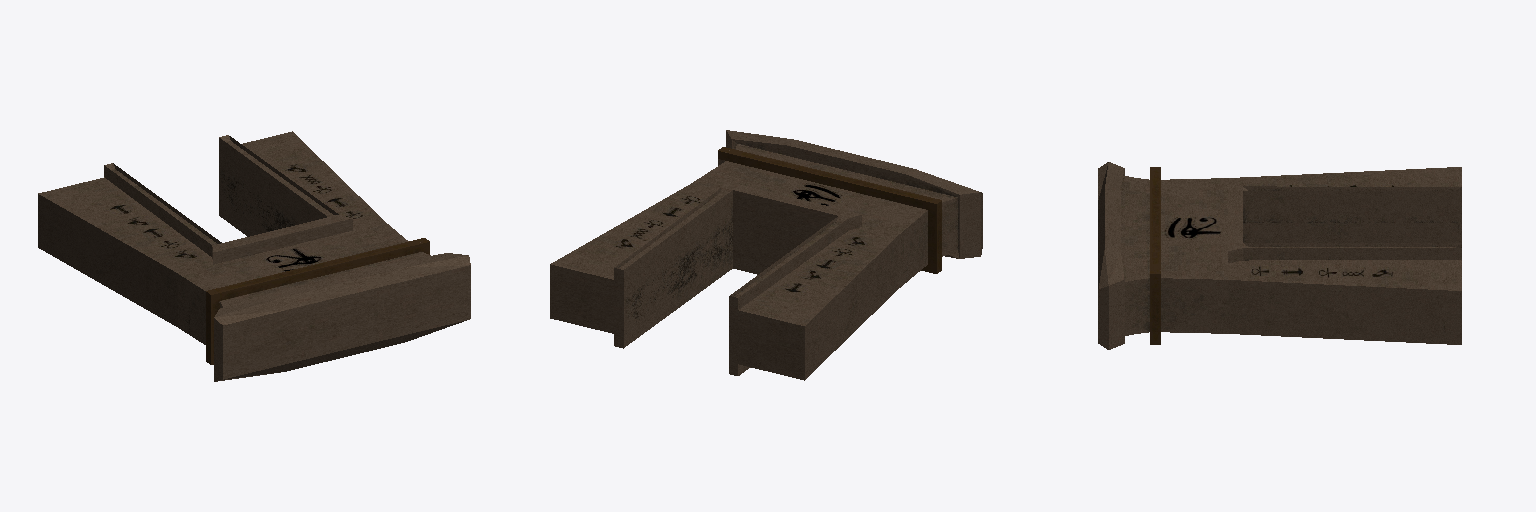
The picture shows the model from 3 angles: view 1: azimuth 30°, elevation 25°; view 2: azimuth 150°, elevation 25°; view 3: azimuth 270°, elevation 25°; orthographic projection.
Parts seen in each view (by area): view 1: main_low; view 2: main_low; view 3: main_low.
Part boxes in pixels (x1,y1,x2,y2): main_low: (38, 131, 470, 381); main_low: (550, 130, 982, 380); main_low: (1098, 162, 1461, 349).
Bounding box in the file's own units: 3.24 × 0.9522 × 3.99.
Materials: 1 (1 with a texture image).